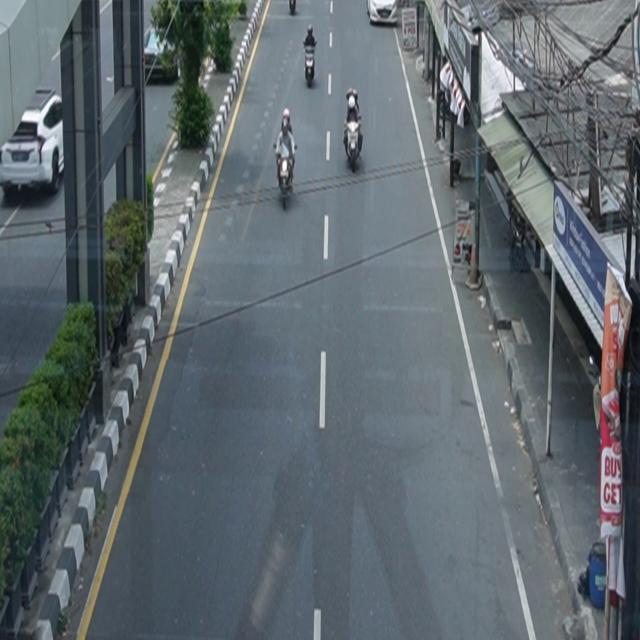car: (144, 25, 180, 82), (367, 1, 398, 26)
